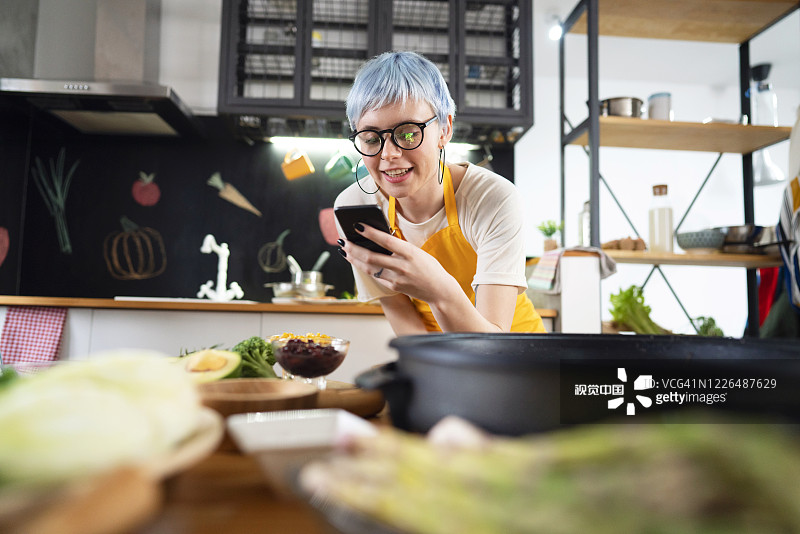taking photos: (329, 196, 464, 310)
